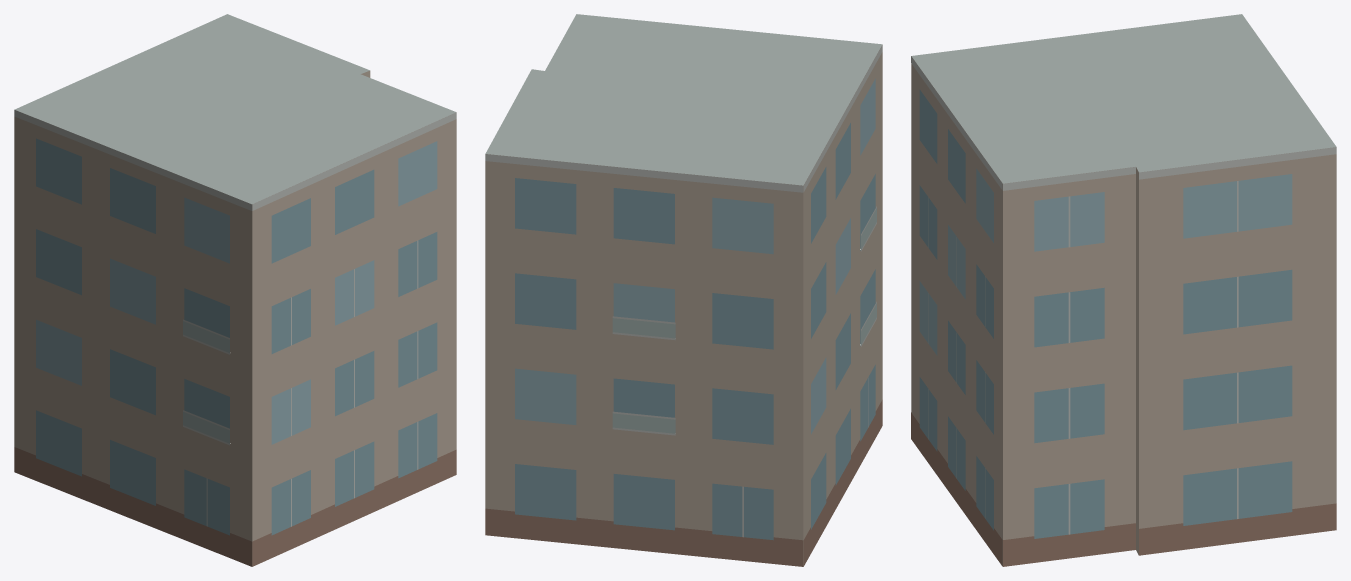
Rendered from survey-upis-32652937.glb.
The picture shows the model from 3 angles, left to right: view 1: azimuth 30°, elevation 25°; view 2: azimuth 150°, elevation 25°; view 3: azimuth 270°, elevation 25°; orthographic projection. The views are drawn at different scales.
Visible parts, largest first — view 1: survey-upis-32652937.tmp; view 2: survey-upis-32652937.tmp; view 3: survey-upis-32652937.tmp.
Boxes of the visible parts, x1,y1,x2,y2 form: survey-upis-32652937.tmp: (14,14,456,566); survey-upis-32652937.tmp: (485,14,882,566); survey-upis-32652937.tmp: (911,14,1336,566).
Size of the model in its own units: 12.39 by 13.03 by 13.12.
